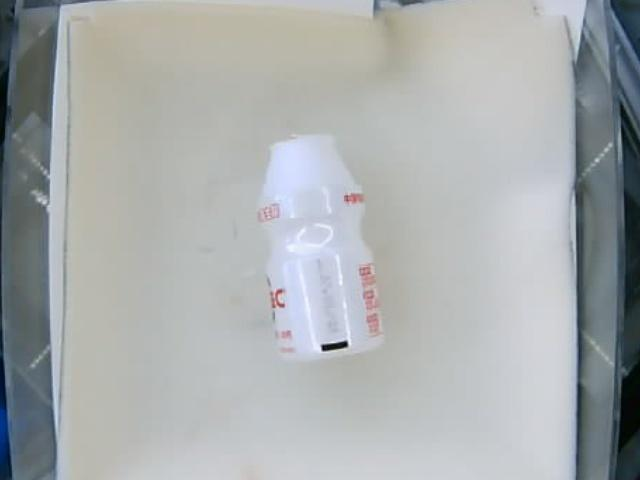Bottle: (260, 134, 384, 361)
